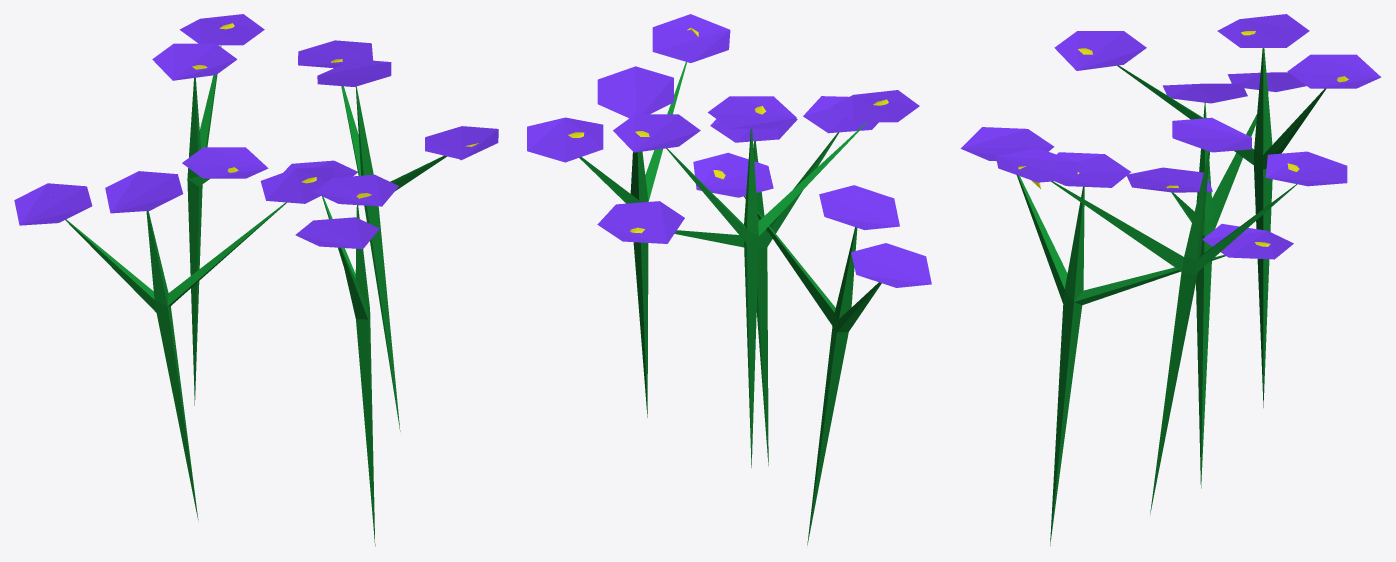
File: PurpleAster_LOD1.fbx
3 renders of one model, left to right at view 1: azimuth 30°, elevation 25°; view 2: azimuth 150°, elevation 25°; view 3: azimuth 270°, elevation 25°, orthographic. The views are drawn at different scales.
Parts seen in each view (by area): view 1: PurpleAster_LOD1; view 2: PurpleAster_LOD1; view 3: PurpleAster_LOD1.
Boxes of the visible parts, x1,y1,x2,y2 form: PurpleAster_LOD1: (14,14,498,546); PurpleAster_LOD1: (527,14,931,545); PurpleAster_LOD1: (960,14,1381,545).
Size of the model in its own units: 24.17 by 30.03 by 26.96.
